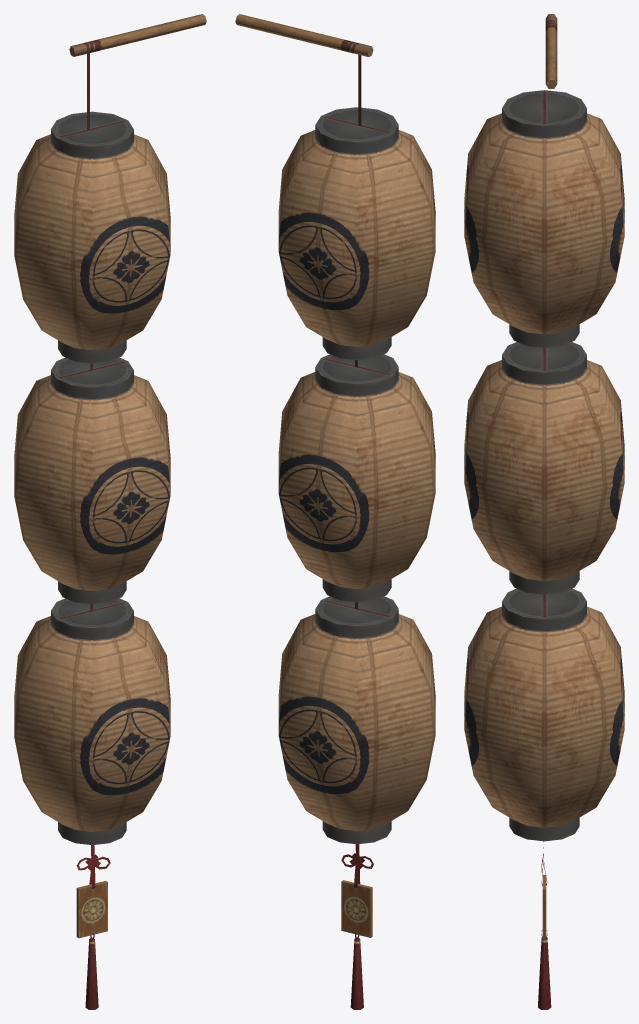
The model's file is i_zx_youzhideng01.FBX.
The picture shows the model from 3 angles, left to right: view 1: azimuth 30°, elevation 25°; view 2: azimuth 150°, elevation 25°; view 3: azimuth 270°, elevation 25°; orthographic projection. The views are drawn at different scales.
Parts seen in each view (by area): view 1: i_zx_youzhideng01; view 2: i_zx_youzhideng01; view 3: i_zx_youzhideng01.
Part boxes in pixels (x1=…): i_zx_youzhideng01: x1=14, y1=14, x2=206, y2=1009; i_zx_youzhideng01: x1=235, y1=14, x2=435, y2=1009; i_zx_youzhideng01: x1=464, y1=14, x2=624, y2=1009.
Size of the model in its own units: 0.5234 by 2.49 by 0.3669.
